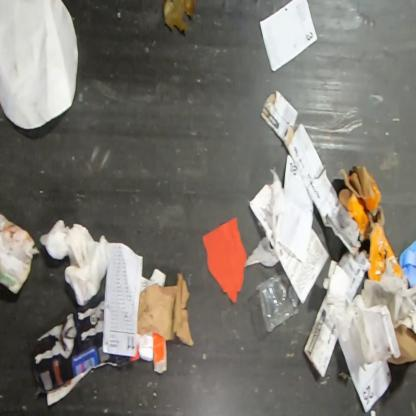cardboard: (338, 165, 408, 288), (361, 257, 415, 367), (136, 272, 195, 348)
rigid_plastic: (256, 268, 300, 332)
